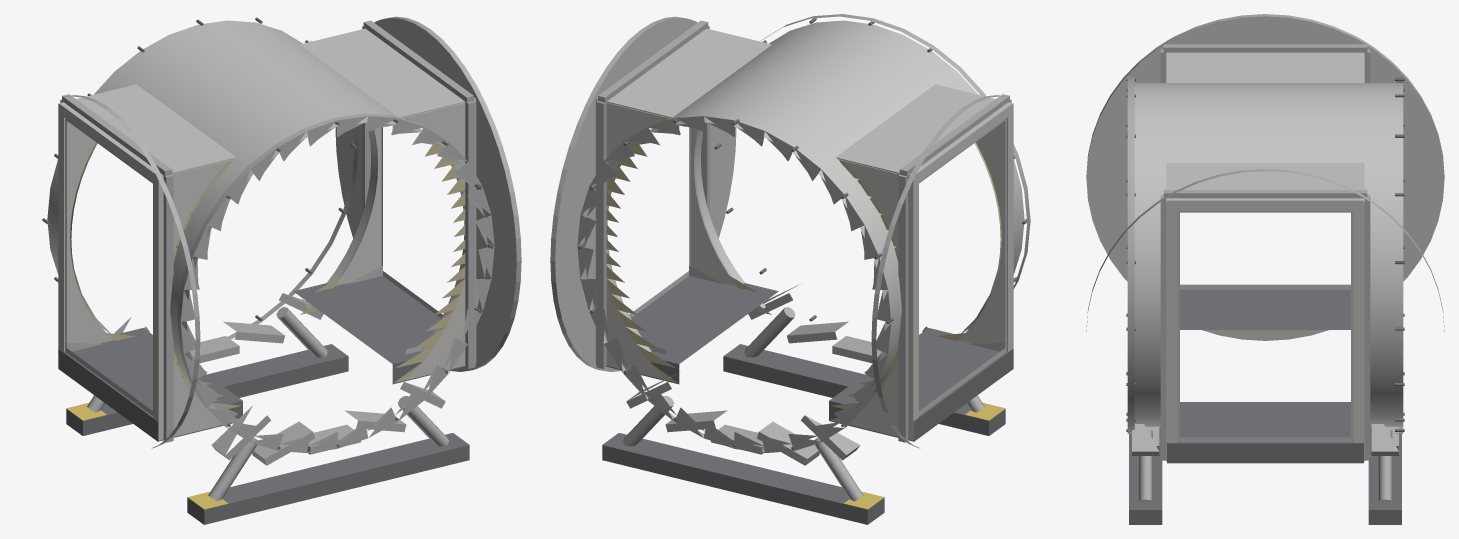
File: habSegJLR_steel.glb
3 views of the same model, side by side, from view 1: azimuth 30°, elevation 25°; view 2: azimuth 150°, elevation 25°; view 3: azimuth 270°, elevation 25° (orthographic).
Parts seen in each view (by area): view 1: habSegJLR_steel; view 2: habSegJLR_steel; view 3: habSegJLR_steel.
Boxes of the visible parts, x1,y1,x2,y2 form: habSegJLR_steel: (42, 16, 521, 524); habSegJLR_steel: (550, 14, 1030, 524); habSegJLR_steel: (1086, 14, 1444, 524).
Bounding box in the file's own units: 2.7 × 2.95 × 2.6.
